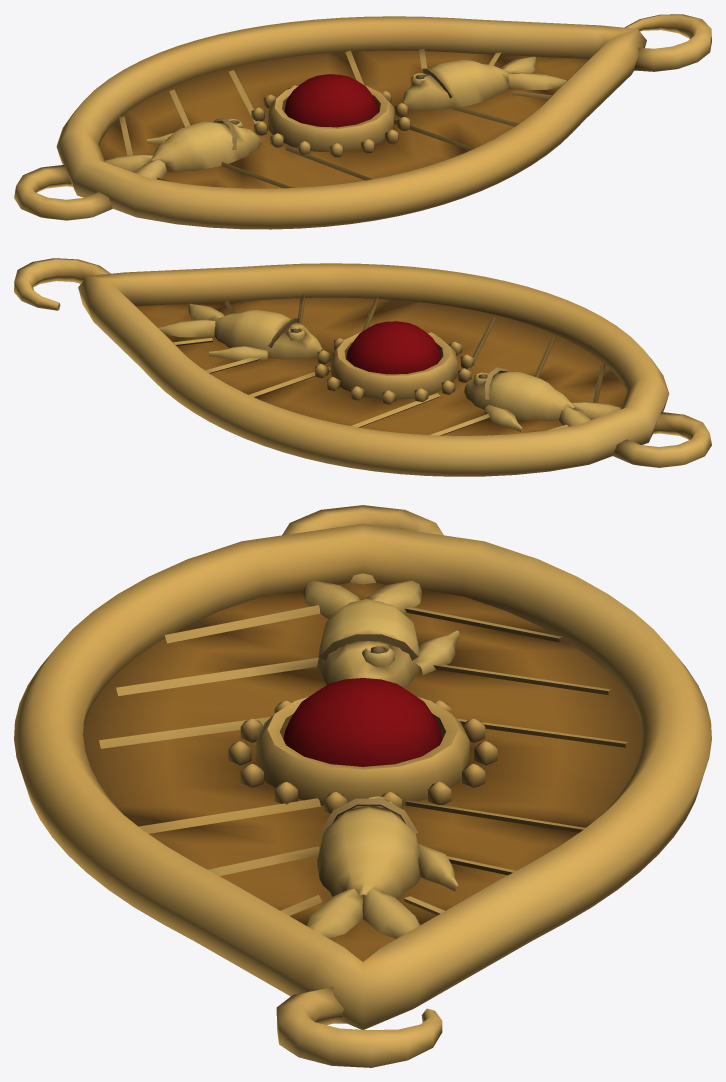
The model's file is thali-clasp.5163eec1.glb.
3 views of the same model, one above another, from view 1: azimuth 30°, elevation 25°; view 2: azimuth 150°, elevation 25°; view 3: azimuth 270°, elevation 25° (orthographic). The views are drawn at different scales.
Visible parts, largest first — view 1: clasp; view 2: clasp; view 3: clasp.
Part boxes in pixels (box(x1,y1,x2,y2)): clasp: box(14, 14, 711, 229); clasp: box(14, 258, 711, 476); clasp: box(14, 505, 711, 1067).
Bounding box in the file's own units: 0.0483 × 0.0041 × 0.0256.
